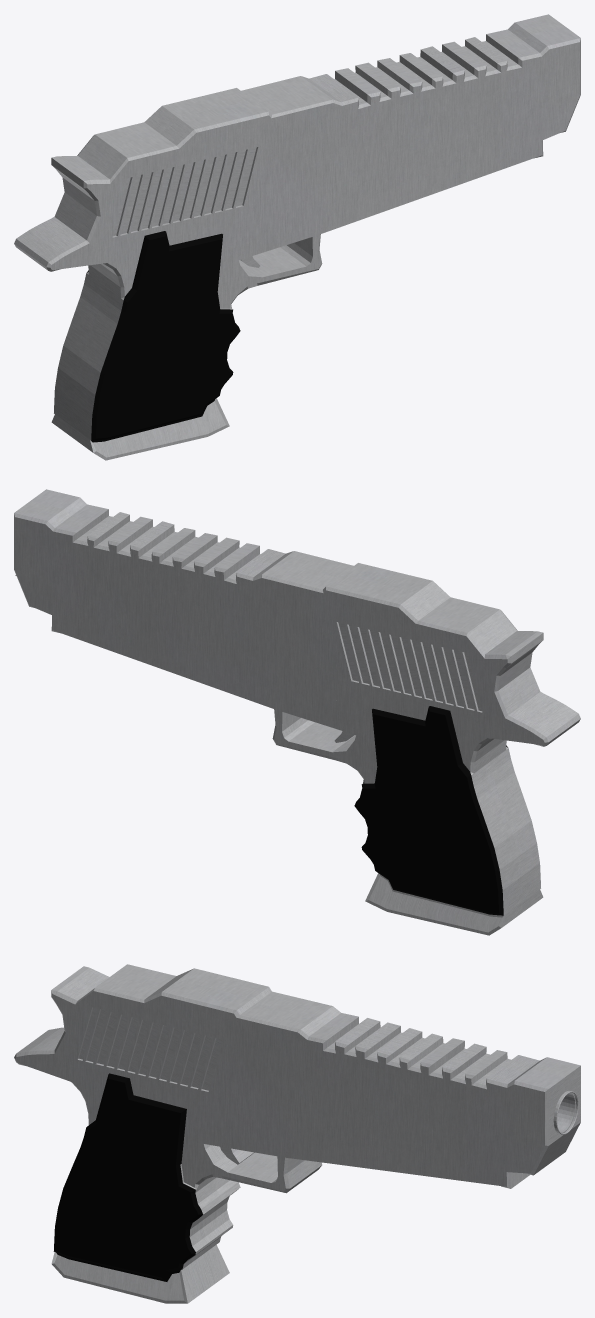
Rendered from DesertEagleObject5.fbx.
3 renders of one model, top to bottom at view 1: azimuth 30°, elevation 25°; view 2: azimuth 150°, elevation 25°; view 3: azimuth 330°, elevation 25°, orthographic.
Visible parts, largest first — view 1: Gun; view 2: Gun; view 3: Gun.
Part boxes in pixels (x1,y1,x2,y2): Gun: (14, 14, 580, 460); Gun: (14, 489, 580, 935); Gun: (14, 964, 580, 1303).
Size of the model in its own units: 89.33 by 48.58 by 12.09.
Materials: 2 (1 with a texture image).
